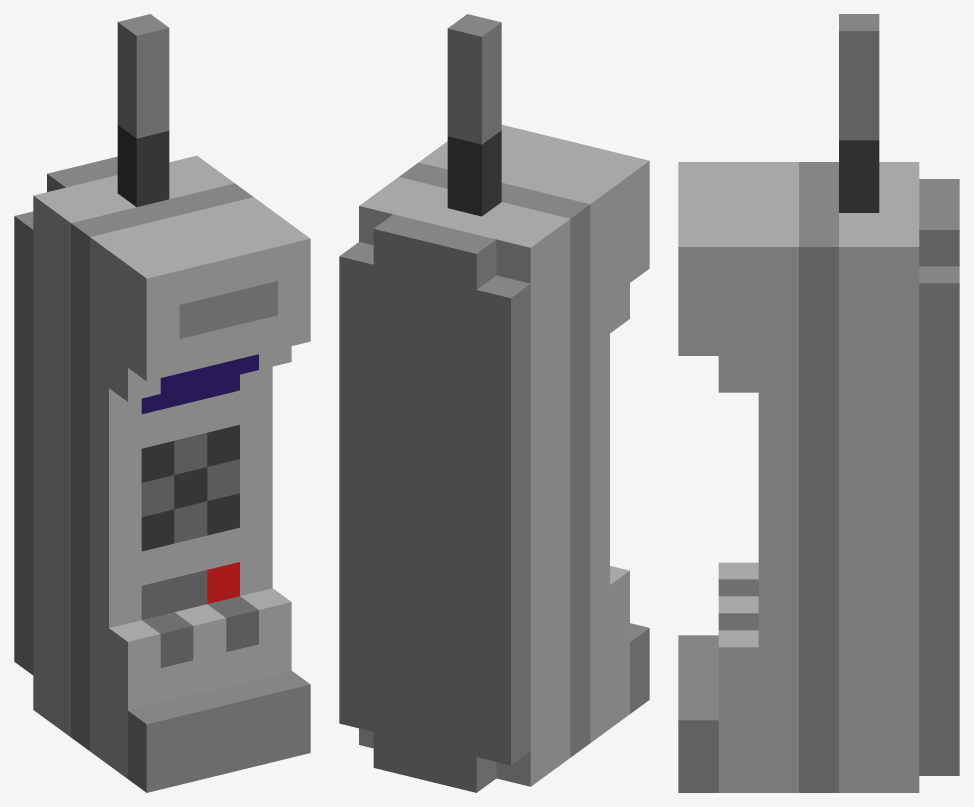
Rendered from brick_phone.vox.obj.
3 renders of one model, left to right at view 1: azimuth 30°, elevation 25°; view 2: azimuth 150°, elevation 25°; view 3: azimuth 270°, elevation 25°, orthographic. The views are drawn at different scales.
Bounding box in the file's own units: 0.5 × 2 × 0.7.
Materials: 1 (1 with a texture image).
